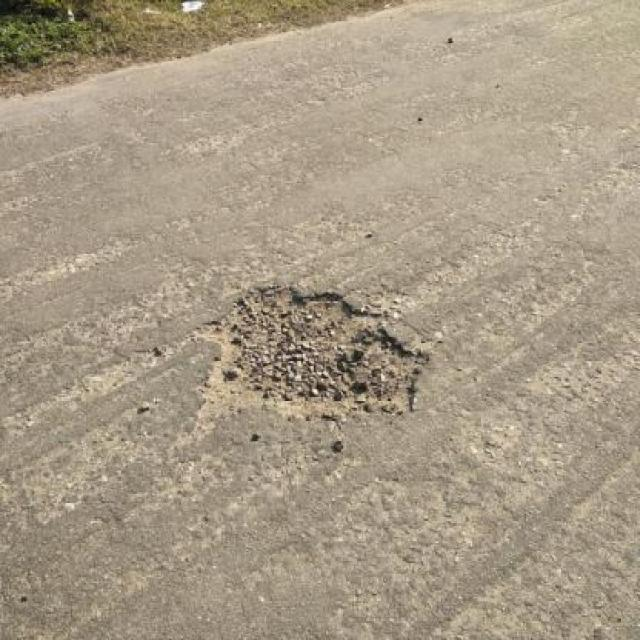Pothole: (189, 282, 432, 421)
